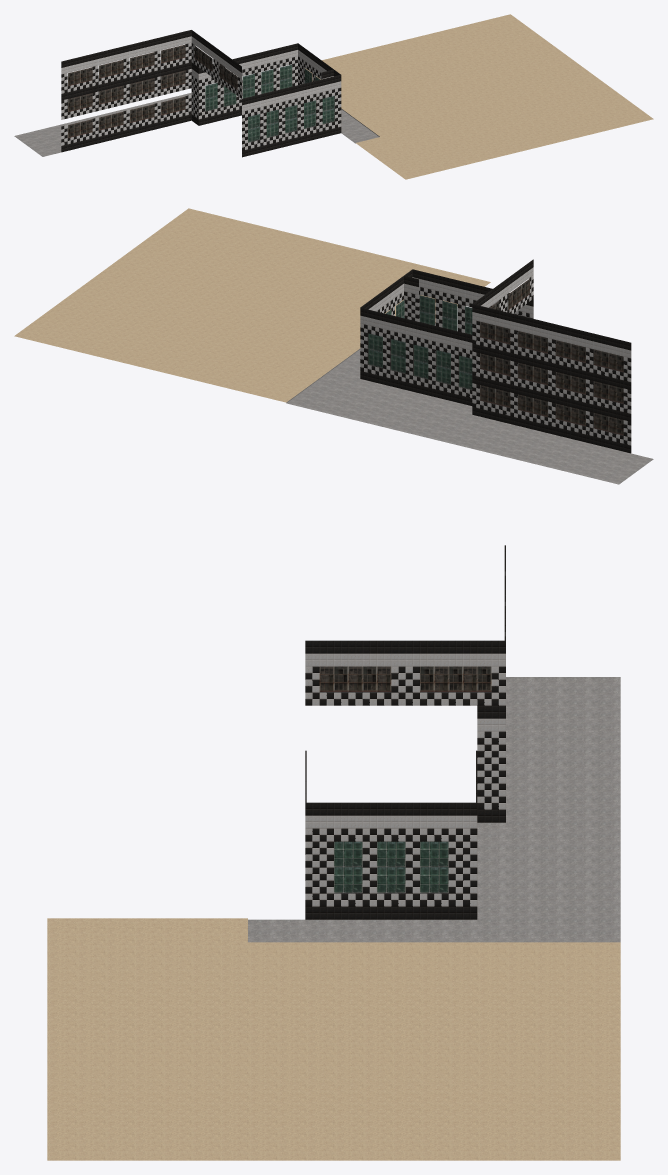
The picture shows the model from 3 angles, top to bottom: view 1: azimuth 30°, elevation 25°; view 2: azimuth 150°, elevation 25°; view 3: azimuth 270°, elevation 25°; orthographic projection. The views are drawn at different scales.
Parts seen in each view (by area): view 1: Объект_Плоскость.5, Объект_Плоскость.8, Объект_Плоскость.11, Объект_Плоскость.7, Объект_Плоскость.17, Объект_Плоскость.6, Объект_Плоскость.10; view 2: Объект_Плоскость.5, Объект_Плоскость.8, Объект_Плоскость.17, Объект_Плоскость.7, Объект_Плоскость.11, Объект_Плоскость.6, Объект_Плоскость.10, Объект_Плоскость.4; view 3: Объект_Плоскость.5, Объект_Плоскость.17, Объект_Плоскость.10, Объект_Плоскость.6.
Part boxes in pixels (left/top/right/bottom): Объект_Плоскость.5: left=305, top=14, right=653, bottom=179; Объект_Плоскость.8: left=61, top=30, right=191, bottom=152; Объект_Плоскость.11: left=242, top=75, right=341, bottom=157; Объект_Плоскость.7: left=198, top=43, right=297, bottom=125; Объект_Плоскость.17: left=14, top=71, right=379, bottom=156; Объект_Плоскость.6: left=191, top=30, right=241, bottom=125; Объект_Плоскость.10: left=298, top=43, right=340, bottom=84; Объект_Плоскость.5: left=14, top=208, right=490, bottom=402; Объект_Плоскость.8: left=472, top=304, right=631, bottom=453; Объект_Плоскость.17: left=286, top=349, right=653, bottom=484; Объект_Плоскость.7: left=360, top=307, right=472, bottom=405; Объект_Плоскость.11: left=412, top=269, right=533, bottom=334; Объект_Плоскость.6: left=473, top=259, right=533, bottom=313; Объект_Плоскость.10: left=360, top=269, right=412, bottom=318; Объект_Плоскость.4: left=404, top=275, right=418, bottom=321; Объект_Плоскость.5: left=47, top=918, right=620, bottom=1160; Объект_Плоскость.17: left=248, top=677, right=620, bottom=942; Объект_Плоскость.10: left=305, top=802, right=477, bottom=919; Объект_Плоскость.6: left=305, top=640, right=505, bottom=822.
Bounding box in the file's own units: 8000 × 1400 × 4000.
